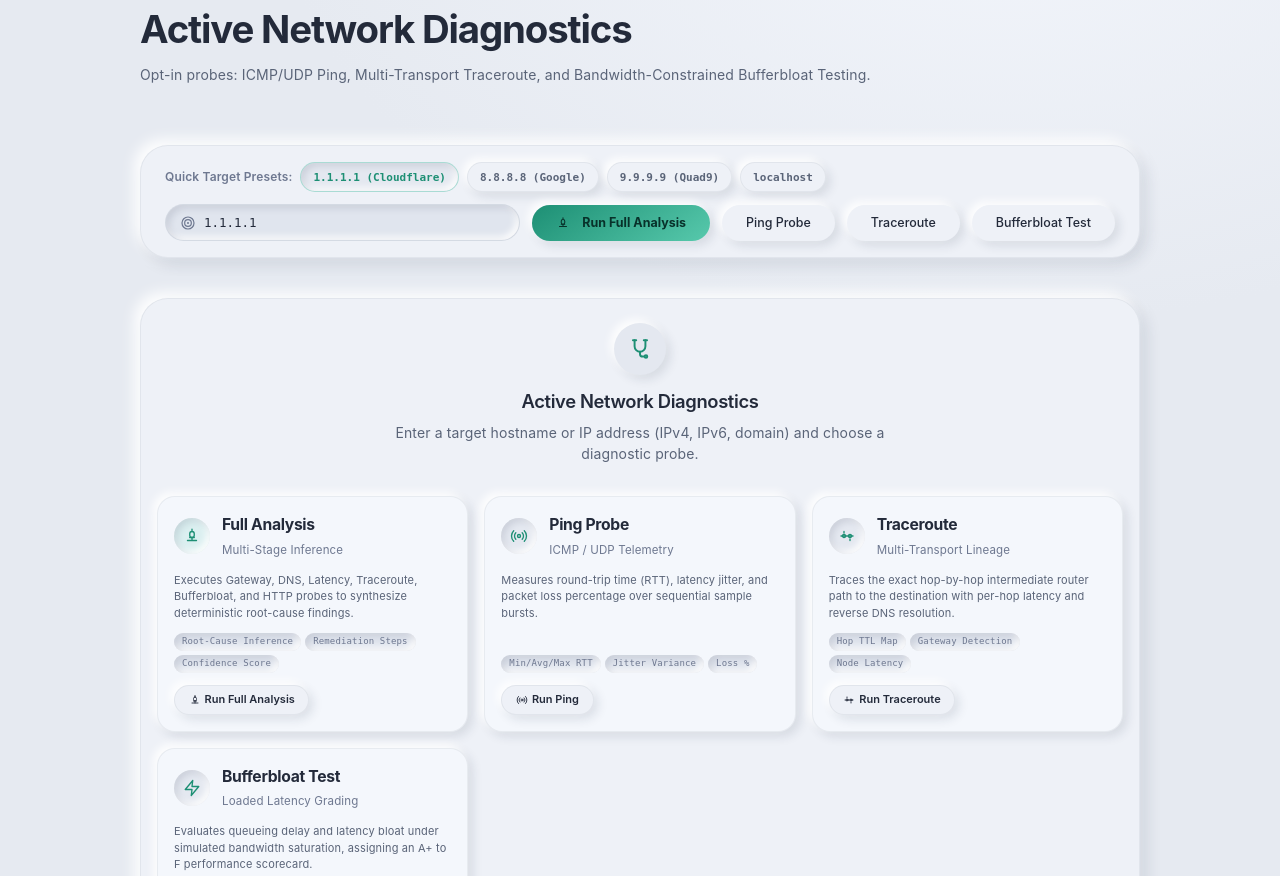
DiagnosticsScreen & useDiagnosticsController › shows notice banner when invalid target is submitted
This screenshot has width=1280, height=876.
Replace the text in the field with placeholder "Target Host (e.g. 1.1.1.1, google.com)" with "invalid!!!" at (355, 223), box [204,207,505,238]
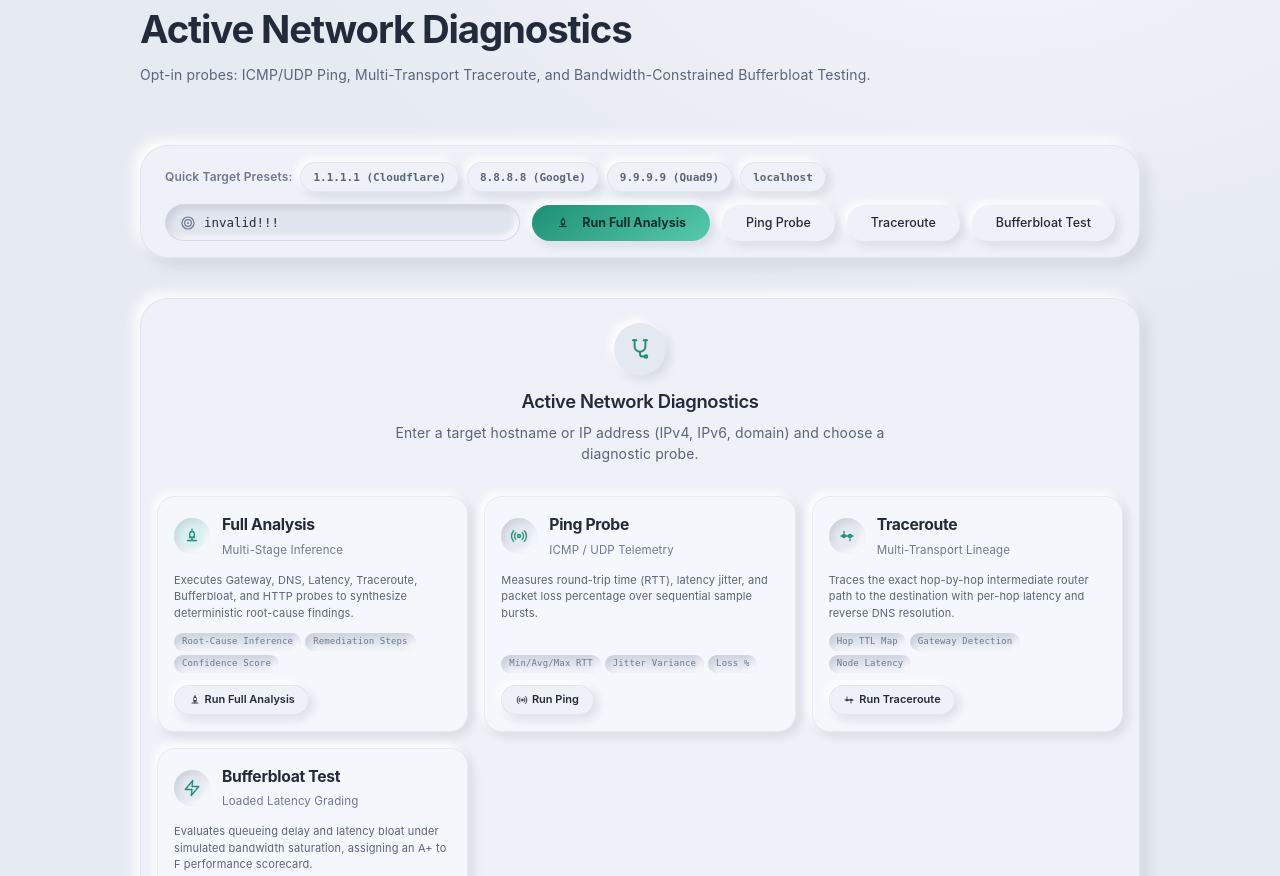
Click the button "Ping Probe" at (778, 223), box [722,205,835,241]
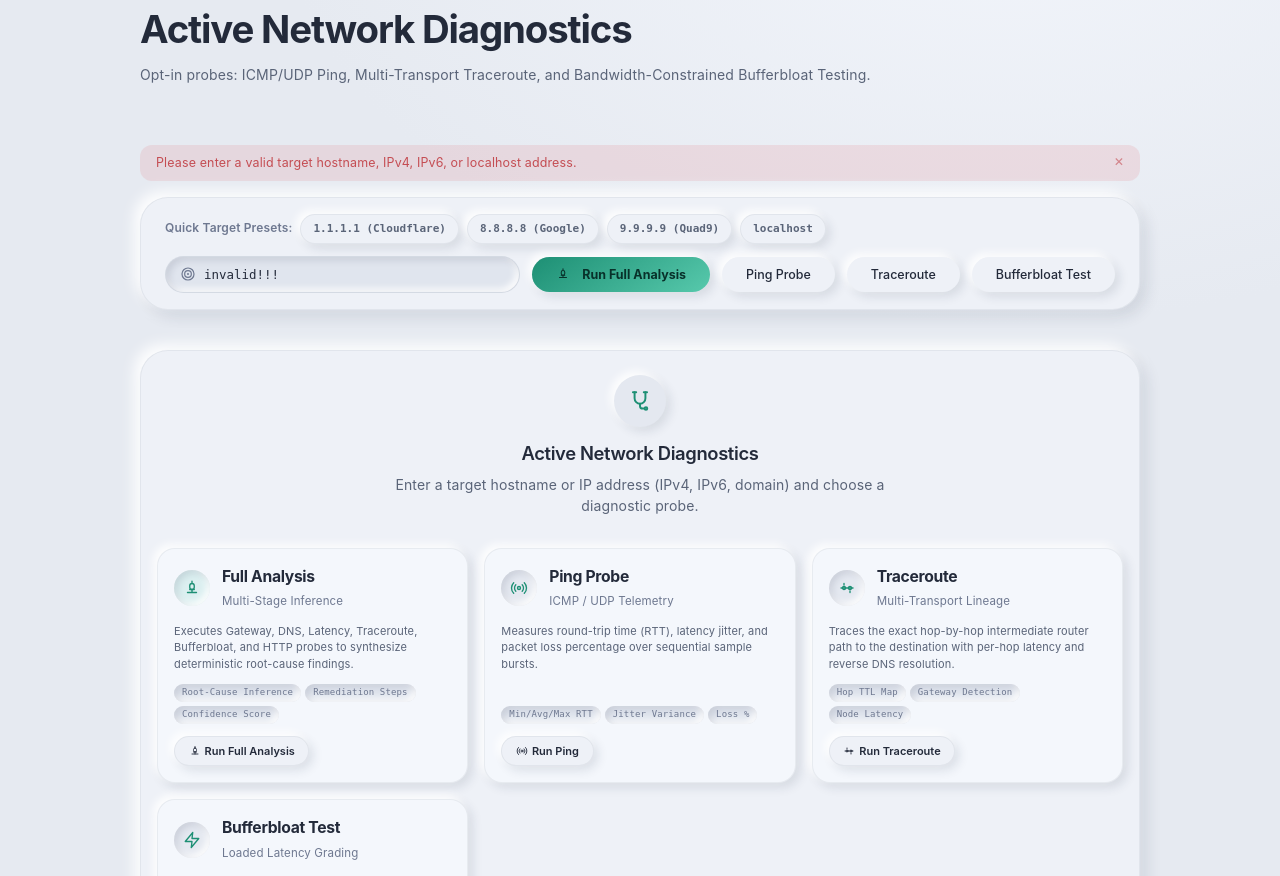
Check: the text "Please enter a valid target hostname, IPv4, IPv6, or localhost address." is shown, box [156,155,577,170]
